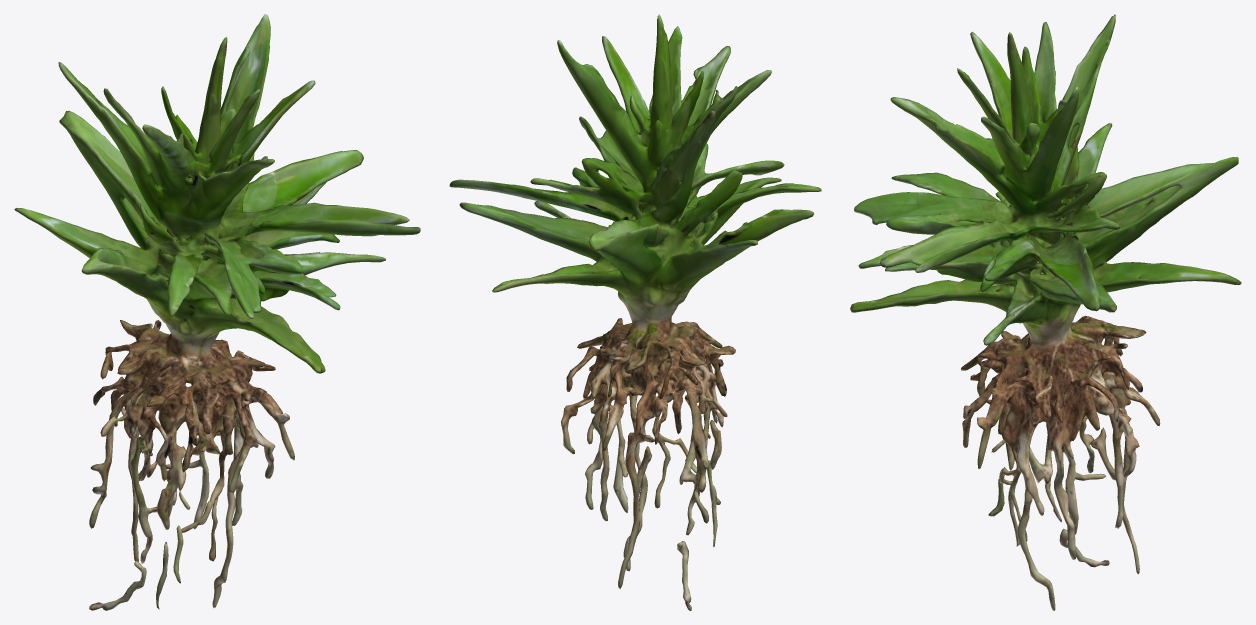
The model's file is Aloe_Plant_with_Roots_0902141659.fbx.
3 views of the same model, side by side, from view 1: azimuth 30°, elevation 25°; view 2: azimuth 150°, elevation 25°; view 3: azimuth 270°, elevation 25° (orthographic). The views are drawn at different scales.
Parts seen in each view (by area): view 1: Mesh_0; view 2: Mesh_0; view 3: Mesh_0.
Boxes of the visible parts, x1=… form: Mesh_0: x1=14, y1=14, x2=420, y2=610; Mesh_0: x1=449, y1=14, x2=821, y2=610; Mesh_0: x1=850, y1=14, x2=1241, y2=610.
Bounding box in the file's own units: 122 × 201 × 124.
Materials: 1 (1 with a texture image).
